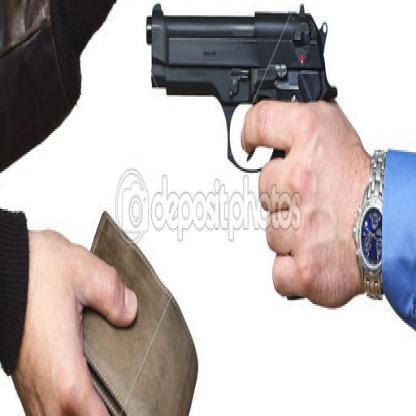gun: (144, 0, 353, 323)
